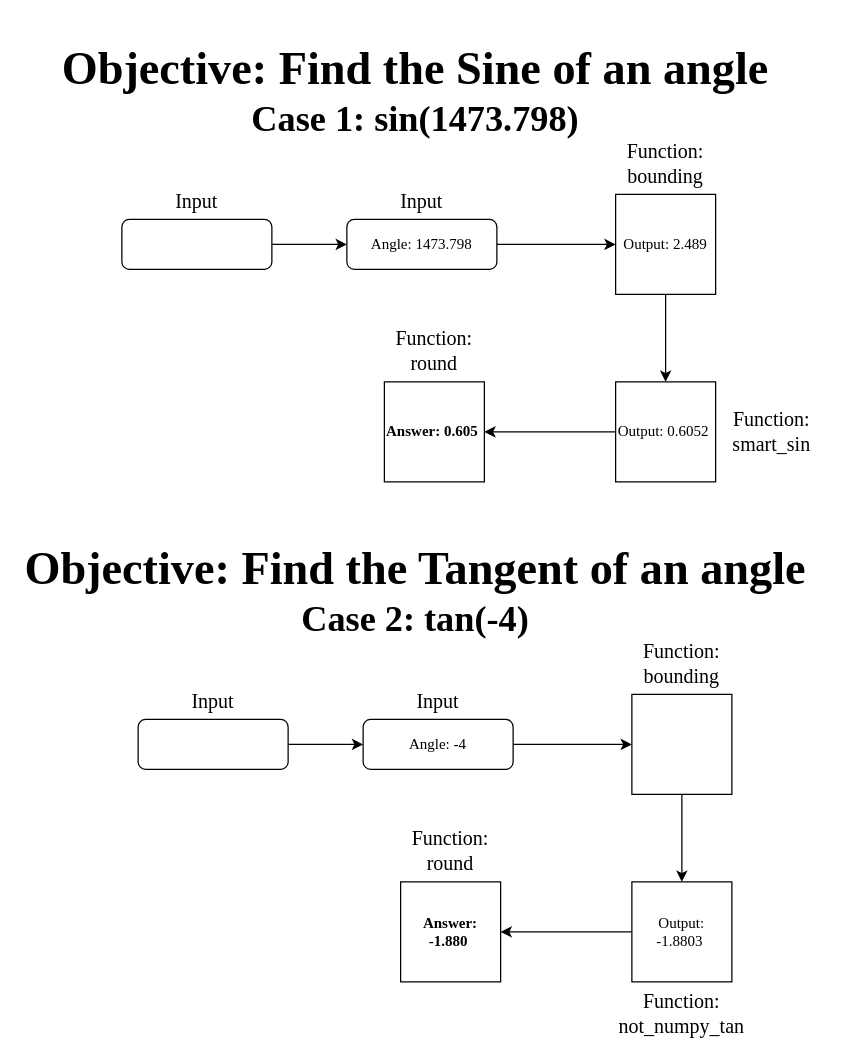
Image size: 849x1059. Some labels were removed from this diagram. Each missing label, with the centre of its shape:
"Choice: 1" belongs at point (196, 243).
"Choice: 3" belongs at point (212, 743).
"Output: 2.28319" belongs at point (681, 743).
